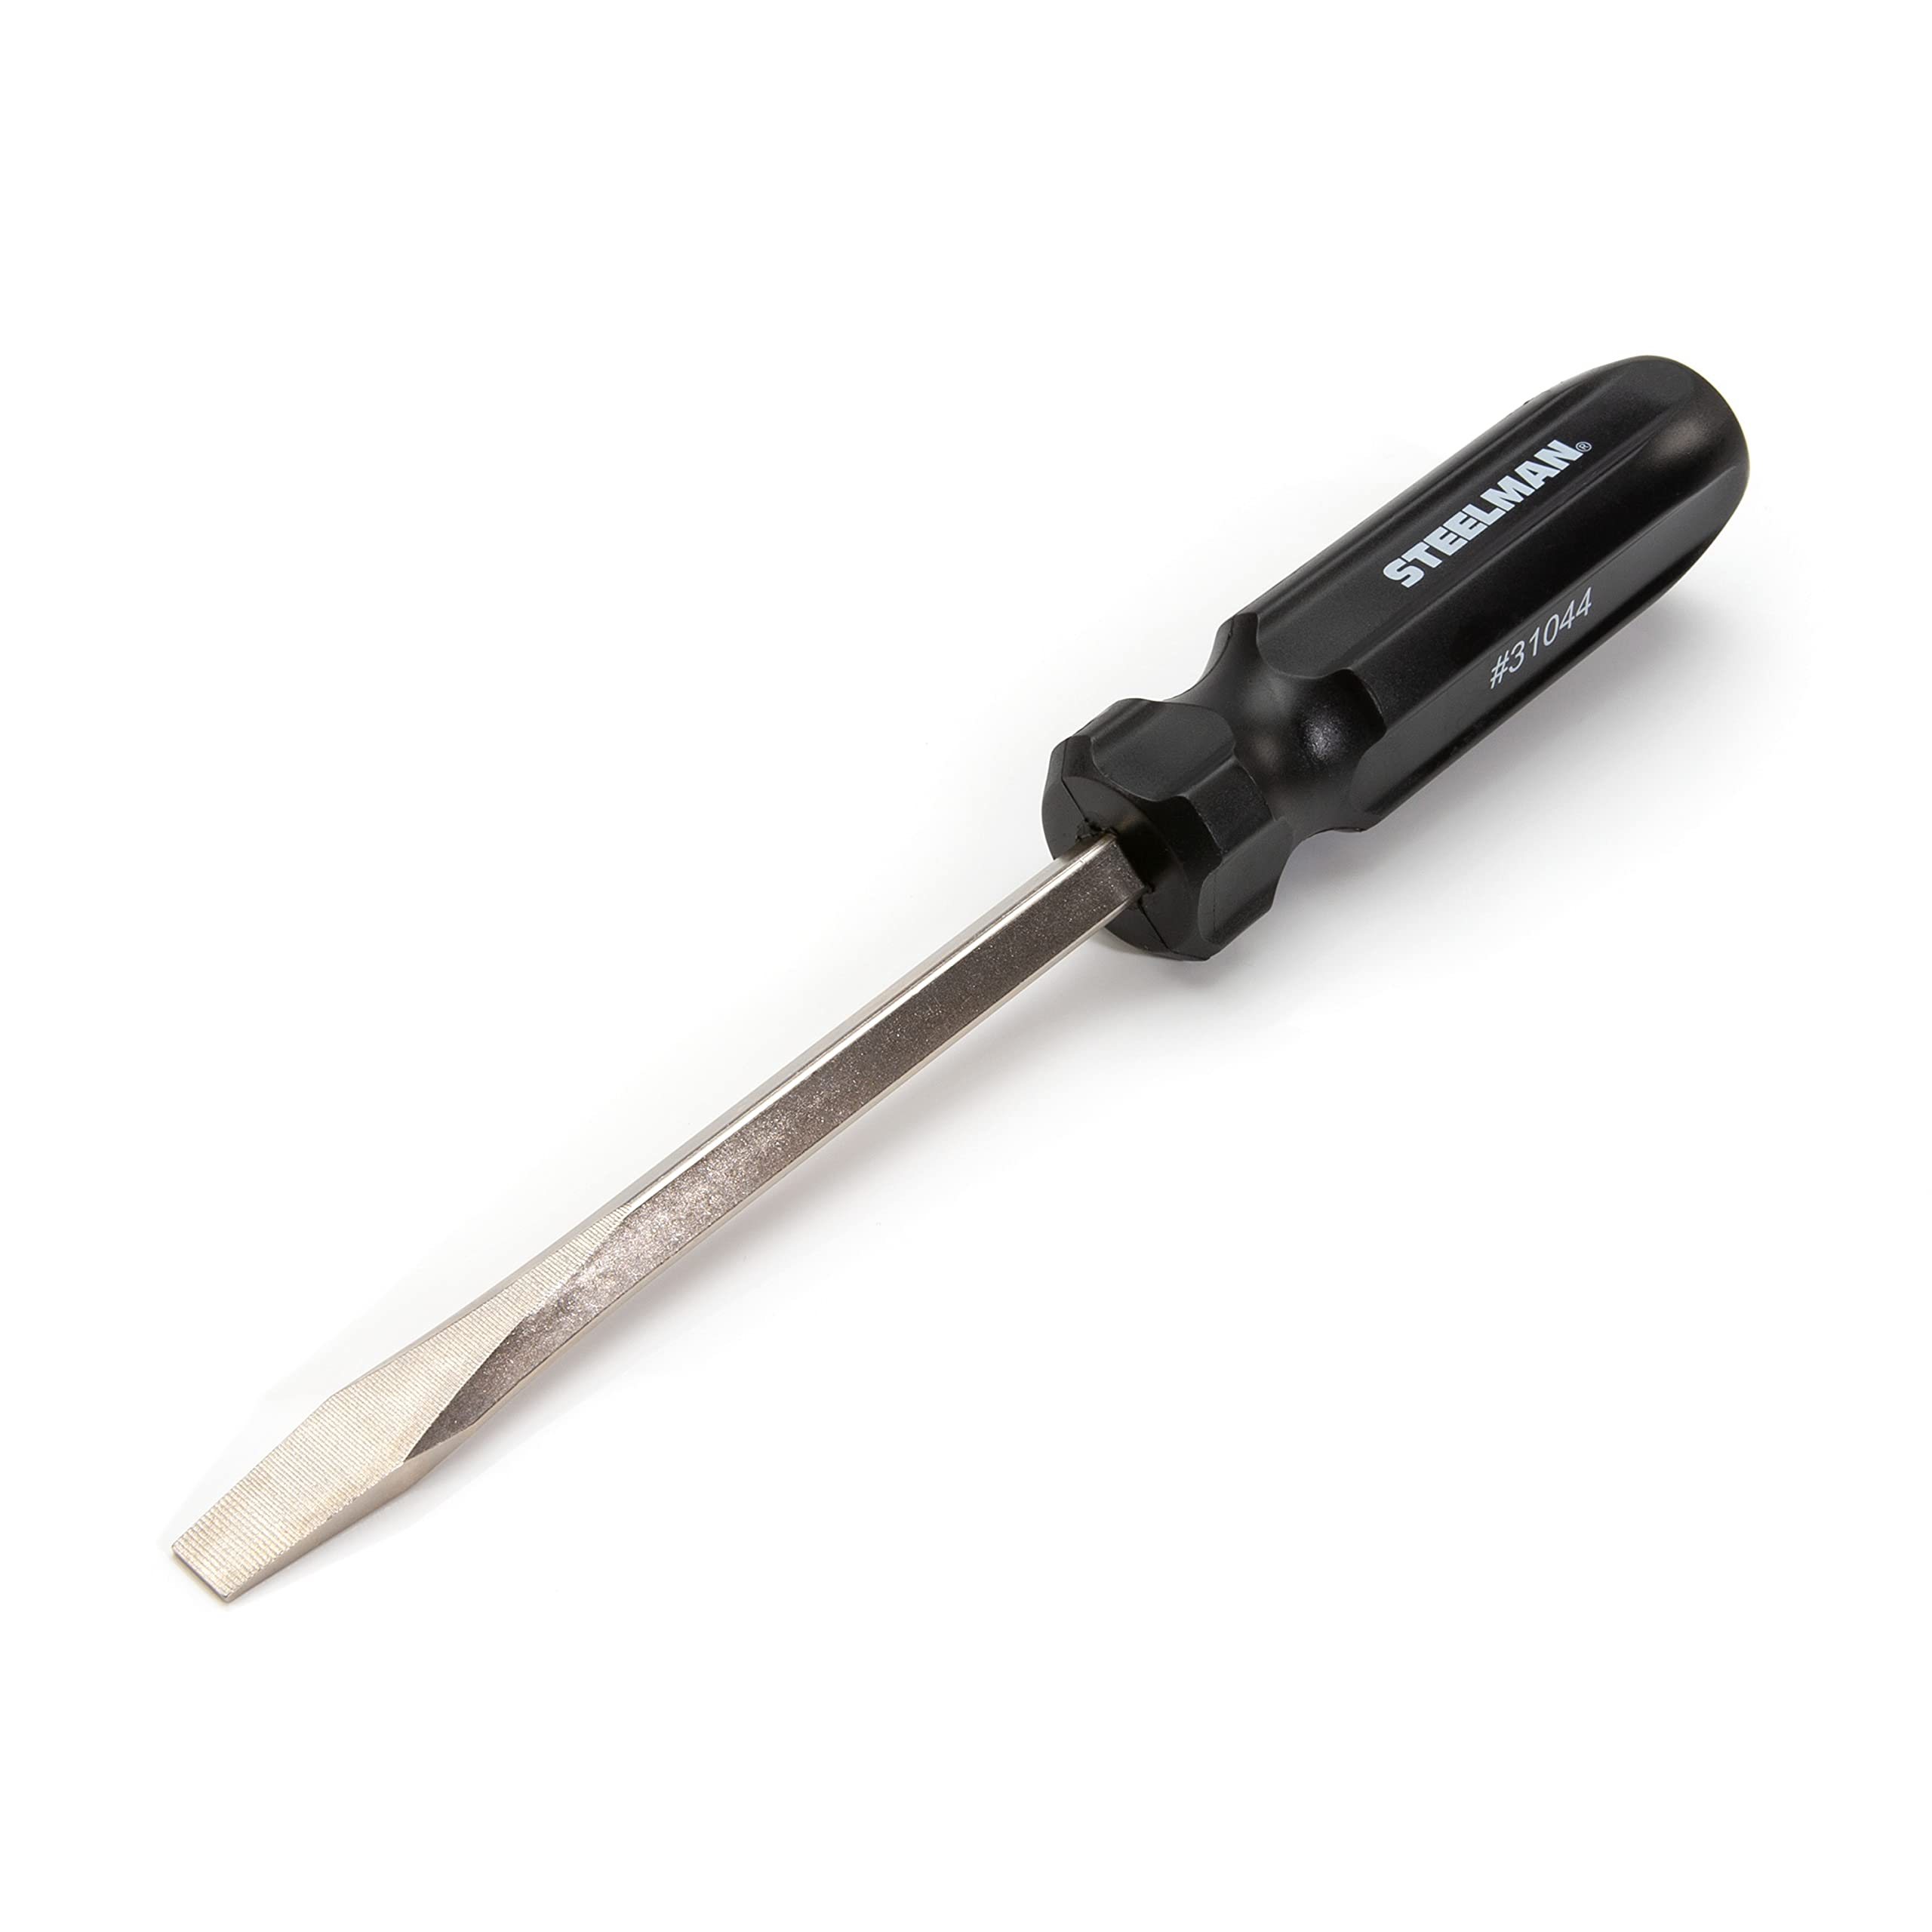screwdriver: (175, 359, 1748, 1612)
